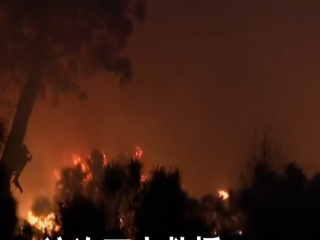fire: (59, 149, 113, 185), (25, 206, 62, 235), (130, 146, 146, 162), (215, 187, 229, 204)
smoke: (19, 23, 153, 121)
